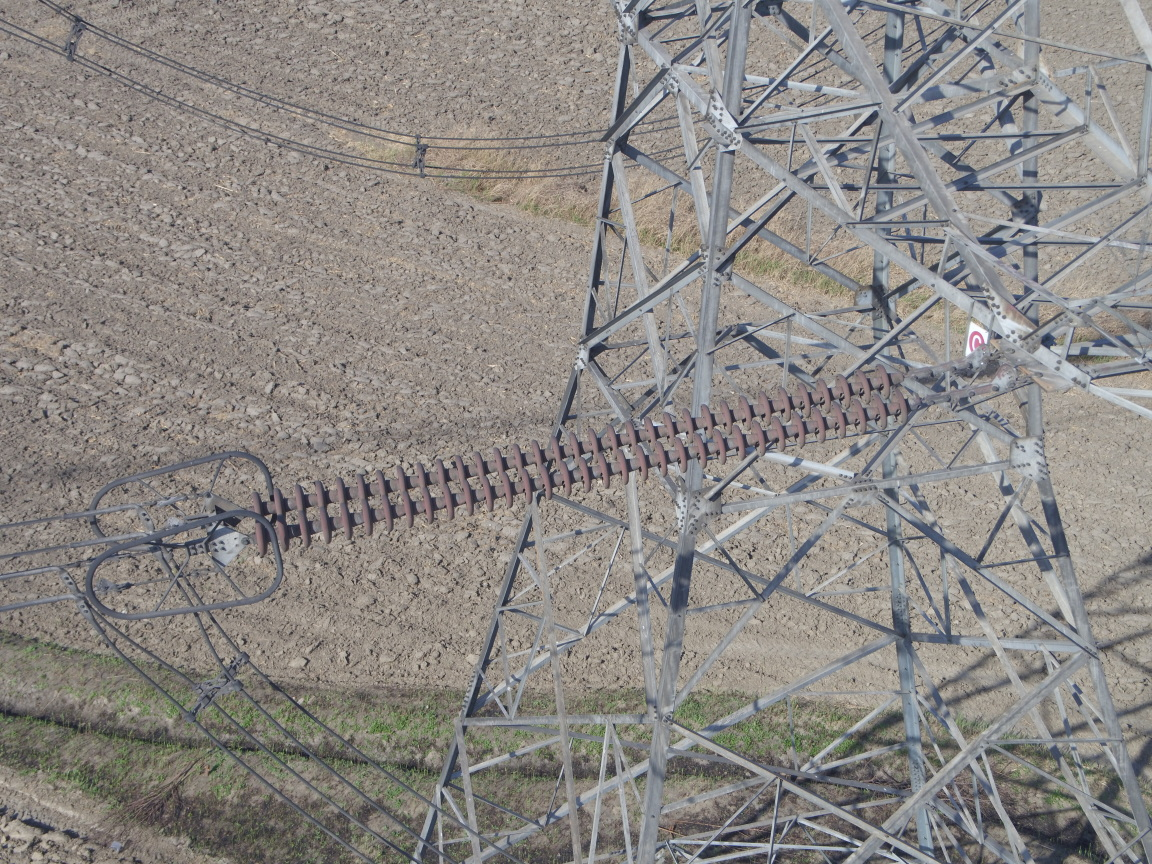insulator: (229, 359, 964, 567)
